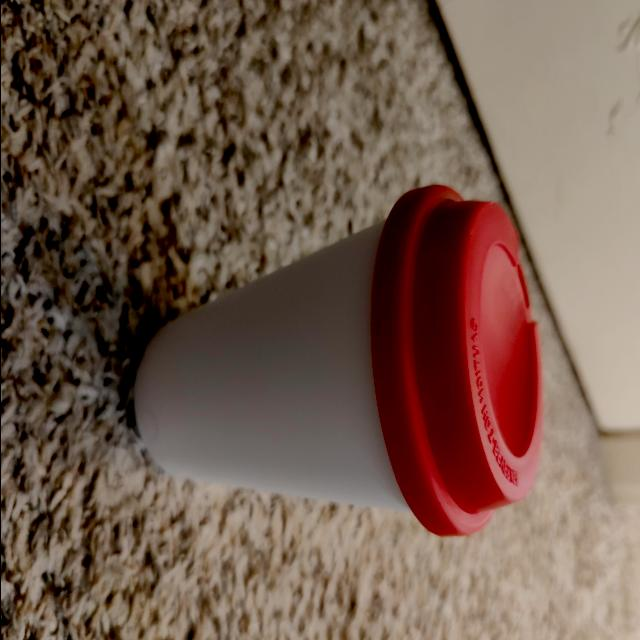mug: (130, 189, 542, 542)
